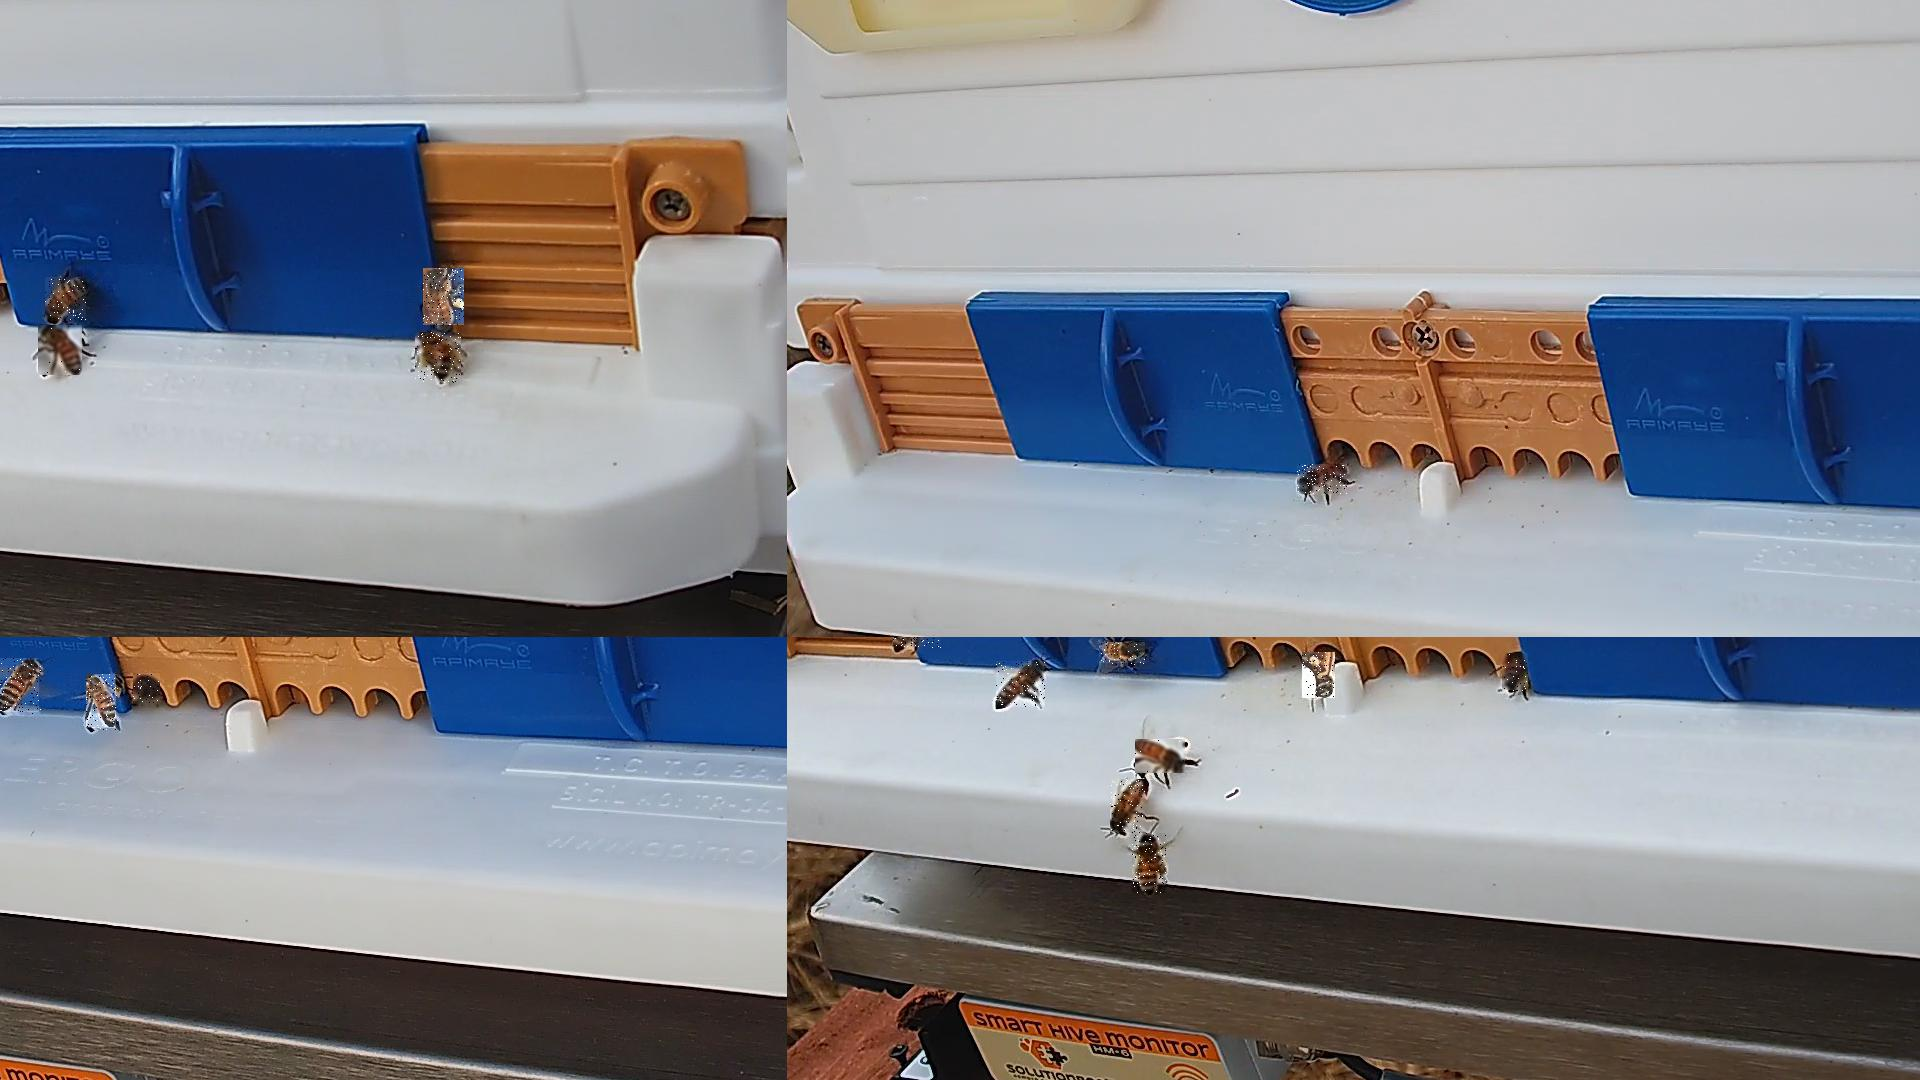bee: (0, 658, 44, 716), (997, 661, 1046, 708), (38, 326, 83, 376), (1112, 779, 1149, 835), (1135, 738, 1188, 774), (87, 675, 120, 732), (45, 278, 87, 322), (1298, 464, 1348, 495), (1100, 644, 1146, 667), (133, 674, 161, 707), (893, 637, 943, 650)
pollenbee: (423, 269, 465, 328), (415, 332, 463, 385), (1133, 833, 1167, 894), (1303, 653, 1336, 699), (1502, 654, 1530, 692)
